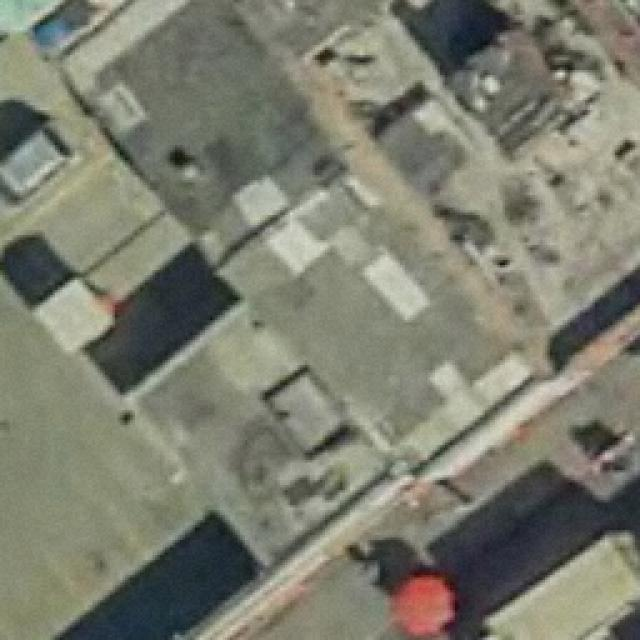vendedor_ambulante: (390, 567, 457, 640)
